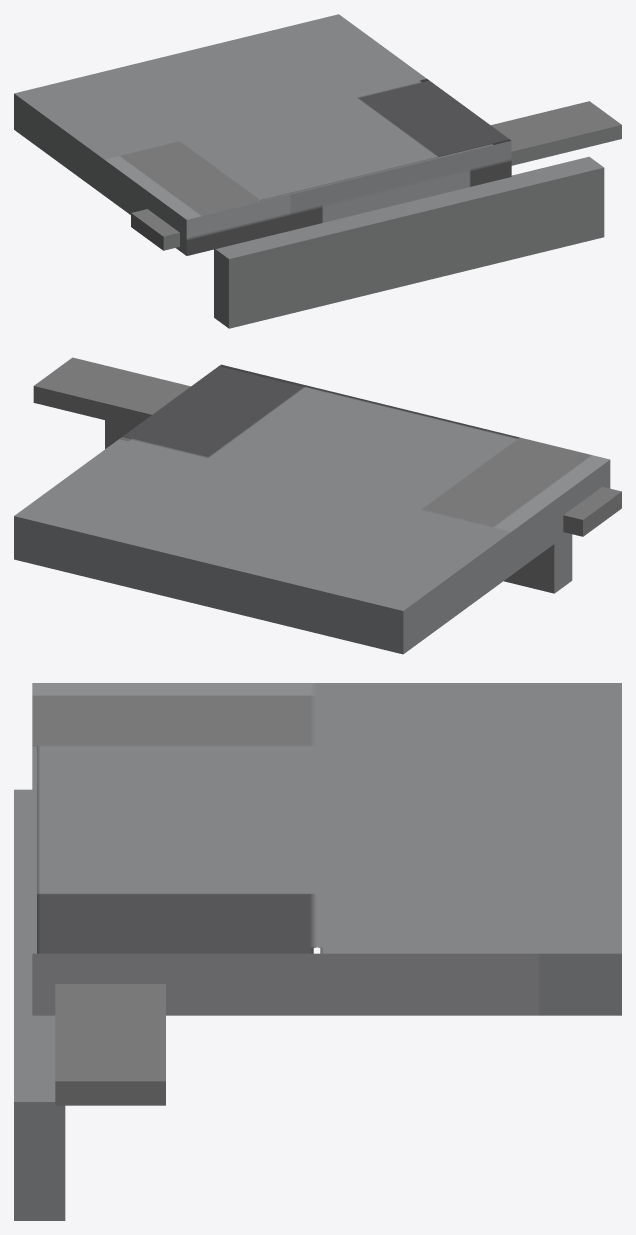
3 renders of one model, top to bottom at view 1: azimuth 30°, elevation 25°; view 2: azimuth 150°, elevation 25°; view 3: azimuth 270°, elevation 25°, orthographic. The views are drawn at different scales.
Bounding box in the file's own units: 0.9293 × 0.2207 × 0.6254.
